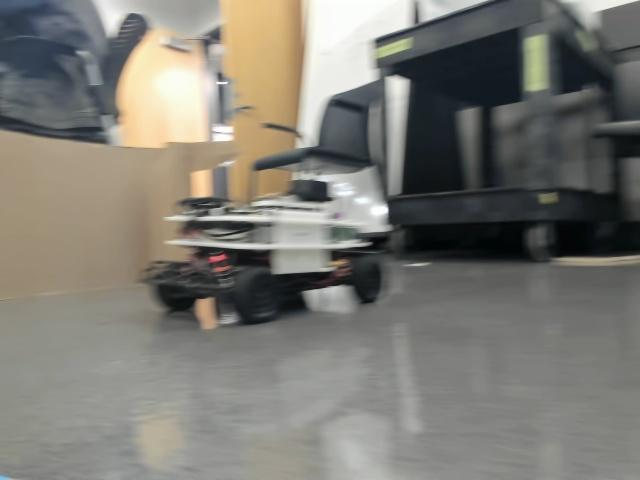Car: (137, 177, 381, 322)
